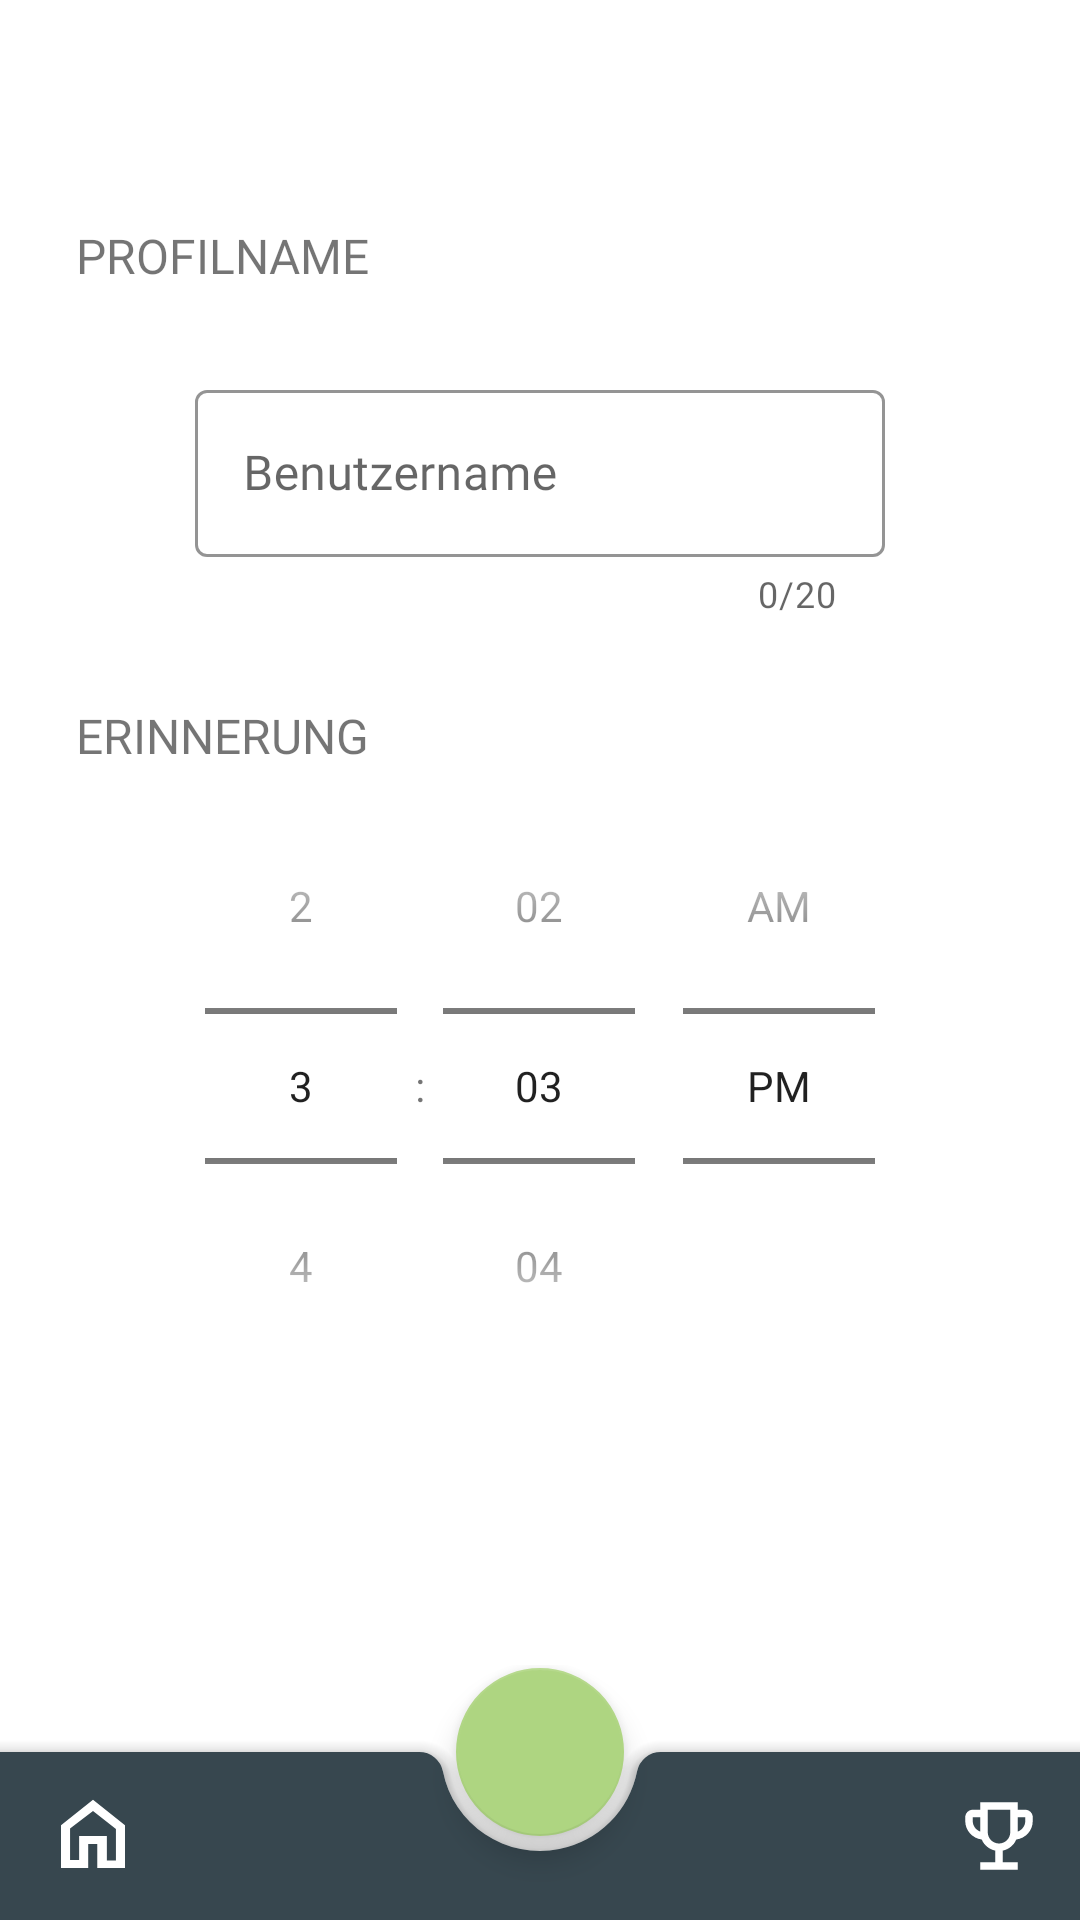

Icons on this 1080 × 1920 Android screen, each with the point to tap as (x,y):
home: (93,1834)
